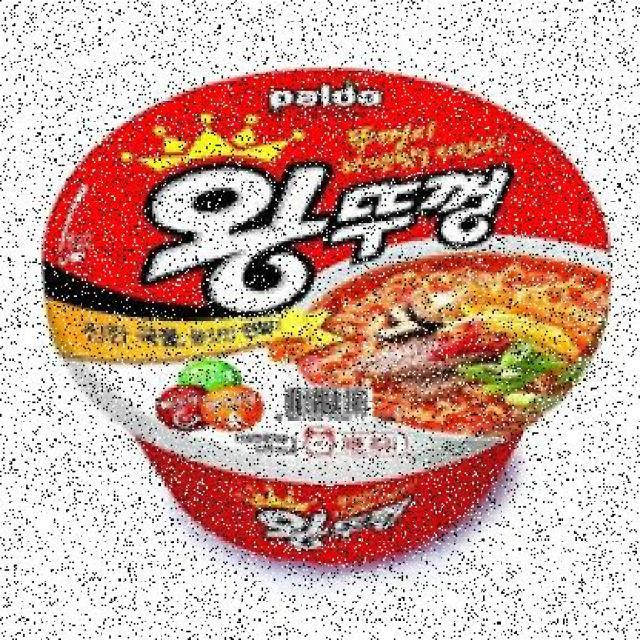Miscellaneous: (35, 64, 611, 578)
